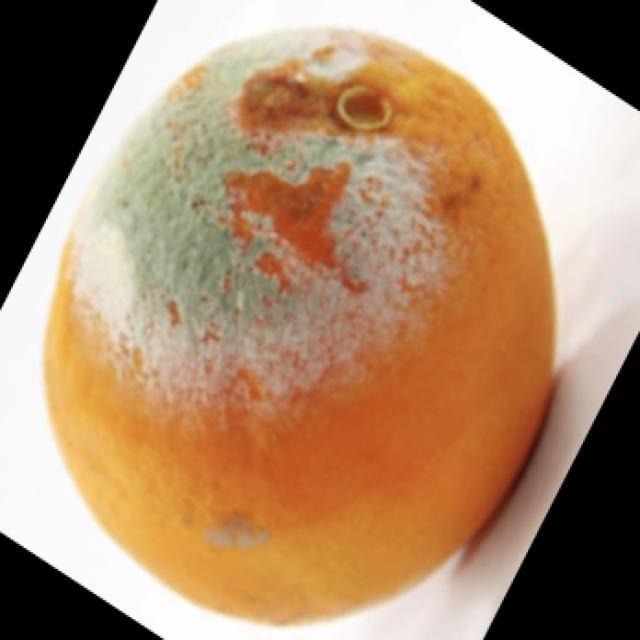sedikit-busuk: (45, 30, 554, 623)
